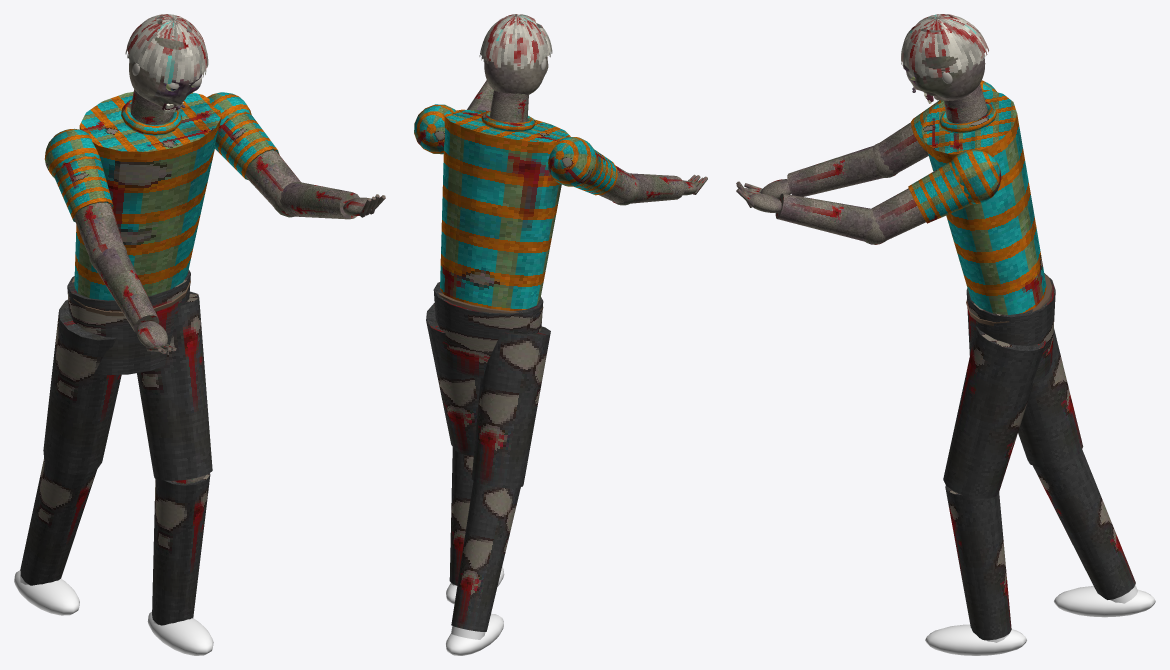
Rendered from Zombie_096.glb.
3 renders of one model, left to right at view 1: azimuth 30°, elevation 25°; view 2: azimuth 150°, elevation 25°; view 3: azimuth 270°, elevation 25°, orthographic. The views are drawn at different scales.
Parts seen in each view (by area): view 1: Zombie_096, object 42, object 3, object 10, object 16, object 4; view 2: Zombie_096, object 42, object 16, object 3, object 10; view 3: Zombie_096, object 42, object 10, object 3, object 16.
Boxes of the visible parts, x1,y1,x2,y2 form: Zombie_096: (14, 89, 300, 655); object 42: (125, 14, 208, 82); object 3: (94, 247, 159, 333); object 10: (280, 181, 359, 219); object 16: (129, 22, 201, 107); object 4: (136, 321, 167, 347); Zombie_096: (414, 90, 635, 655); object 42: (479, 14, 552, 67); object 16: (484, 22, 548, 94); object 3: (630, 173, 684, 203); object 10: (467, 80, 493, 111); Zombie_096: (871, 80, 1155, 655); object 42: (901, 14, 988, 75); object 10: (775, 193, 873, 241); object 3: (787, 145, 883, 196); object 16: (903, 28, 985, 100).
Bounding box in the file's own units: 0.7113 × 1.93 × 1.18.
Materials: 16 (6 with a texture image).
